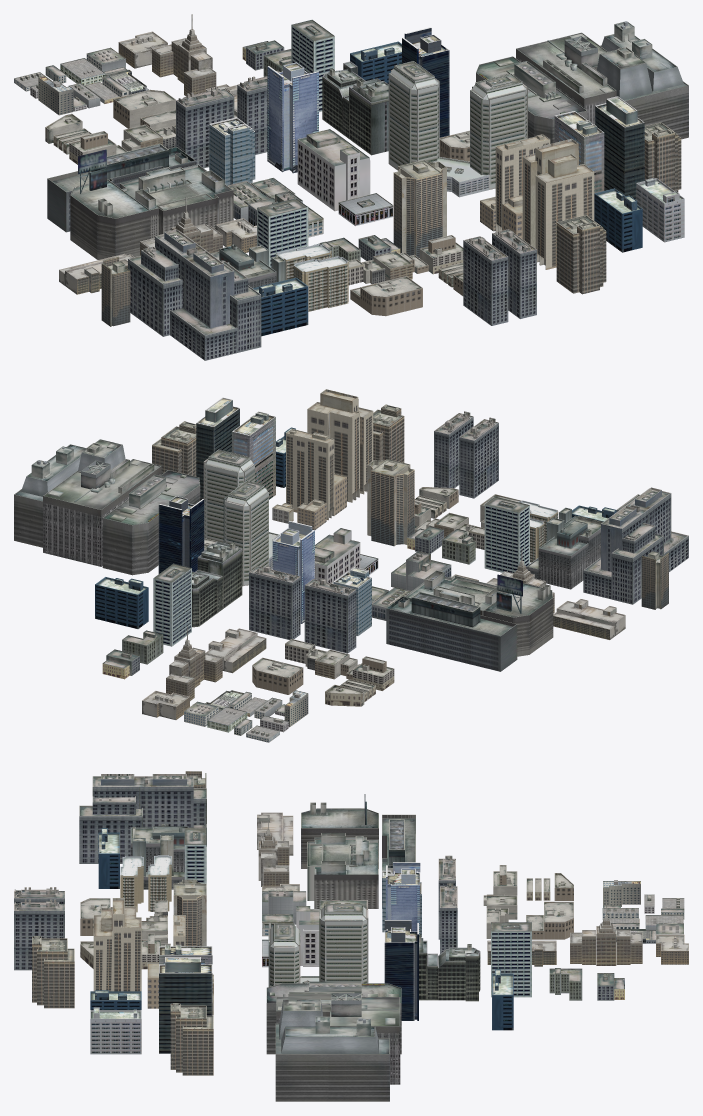
3 views of the same model, one above another, from view 1: azimuth 30°, elevation 25°; view 2: azimuth 150°, elevation 25°; view 3: azimuth 270°, elevation 25° (orthographic). The views are drawn at different scales.
Visible parts, largest first — view 1: Line22, Shape01, Shape03, Box03, PJL-HWX-474, 3dxy, PJL-HWX-505, PJL-HWX-507, Line01dfhdfhdh, Line13, Line29, Line10sdgsg (+20 smaller); view 2: Shape03, Shape01, Line22, PJL-HWX-474, Box03, PJL-HWX-507, Rectangle36, PJL-HWX-506, Rectangle49, Line01dfhdfhdh, Rectangle15, Line10sdgsg (+15 smaller); view 3: Shape03, Shape01, Line22, Box03, 3dxy, PJL-HWX-474, PJL-HWX-506, Rectangle49, PJL-HWX-507, Line13, Line01dfhdfhdh, Rectangle10 (+18 smaller).
Part boxes in pixels (<box>): Line22: <box>228,61,527,237</box>; Shape01: <box>47,143,233,259</box>; Shape03: <box>476,21,688,143</box>; Box03: <box>128,229,261,360</box>; PJL-HWX-474: <box>480,134,594,269</box>; 3dxy: <box>439,122,681,294</box>; PJL-HWX-505: <box>348,235,463,316</box>; PJL-HWX-507: <box>45,89,175,164</box>; Line01dfhdfhdh: <box>14,47,148,115</box>; Line13: <box>322,61,388,155</box>; Line29: <box>267,62,318,173</box>; Line10sdgsg: <box>393,160,446,257</box>; Shape03: <box>14,439,200,575</box>; Shape01: <box>386,570,553,671</box>; Line22: <box>203,449,451,620</box>; PJL-HWX-474: <box>272,389,373,530</box>; Box03: <box>583,487,688,604</box>; PJL-HWX-507: <box>252,639,394,706</box>; Rectangle36: <box>407,496,529,572</box>; PJL-HWX-506: <box>142,626,266,719</box>; Rectangle49: <box>102,563,191,679</box>; Line01dfhdfhdh: <box>184,690,308,742</box>; Rectangle15: <box>526,507,603,589</box>; Line10sdgsg: <box>367,459,414,546</box>; Shape03: <box>266,981,401,1101</box>; Shape01: <box>301,794,415,908</box>; Line22: <box>262,890,368,986</box>; Box03: <box>79,774,206,863</box>; 3dxy: <box>32,936,213,1075</box>; PJL-HWX-474: <box>93,898,213,1015</box>; PJL-HWX-506: <box>487,901,688,966</box>; Rectangle49: <box>491,922,624,1000</box>; PJL-HWX-507: <box>483,865,573,939</box>; Line13: <box>419,934,480,1001</box>; Line01dfhdfhdh: <box>602,880,684,943</box>; Rectangle10: <box>159,957,212,1053</box>.
Size of the model in its own units: 52235 by 8630 by 53502.
